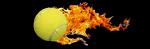tennis ball: (32, 6, 70, 43)
